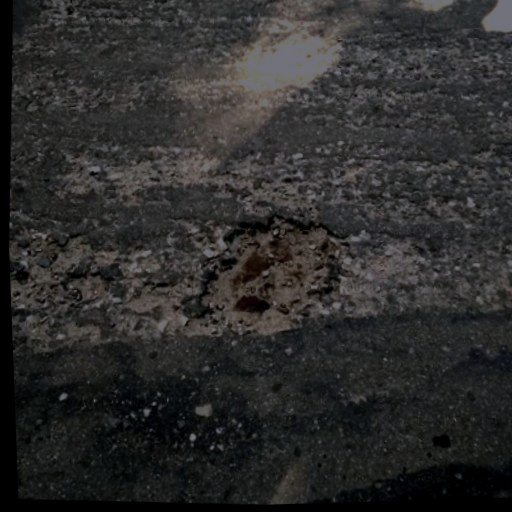pothole: (185, 204, 357, 349), (8, 225, 114, 314)
